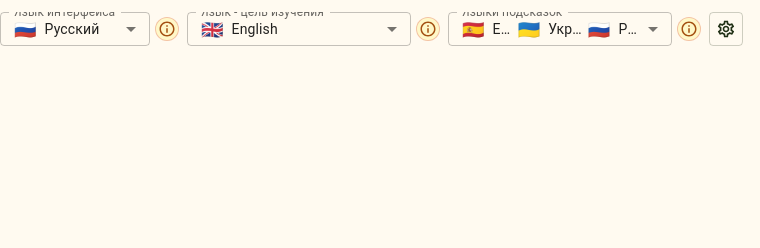
LanguageSelectors › shows language options in their own languages
Press the mouse on the dropdown labelled "🇷🇺 Русский" at (57, 29), box [14,18,99,40]
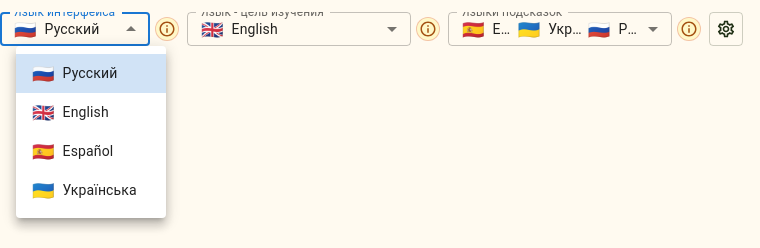
Check: the text with test id "language_selectors__interface_language_option_label__ru__name" reads "Русский", box [63,65,117,81]
Check: the text with test id "language_selectors__interface_language_option_label__en__name" reads "English", box [63,104,109,120]
Check: the text with test id "language_selectors__interface_language_option_label__es__name" reads "Español", box [63,143,113,159]
Press Escape
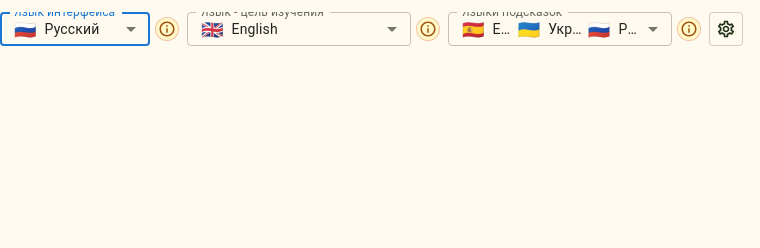
Check: the list is gone
Press the mouse on the dropdown labelled "🇬🇧 English" at (239, 29), box [201,18,278,40]
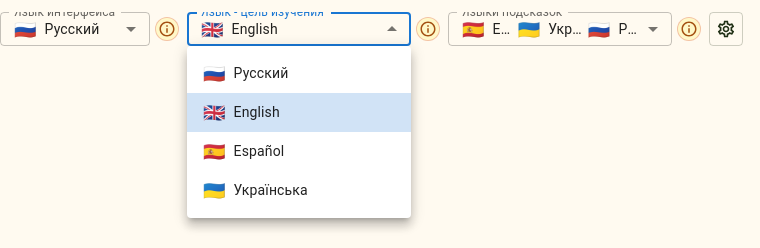
Check: the text with test id "language_selectors__target_language_option_label__ru__name" reads "Русский", box [234,65,288,81]
Check: the text with test id "language_selectors__target_language_option_label__en__name" reads "English", box [234,104,280,120]
Check: the text with test id "language_selectors__target_language_option_label__es__name" reads "Español", box [234,143,284,159]
